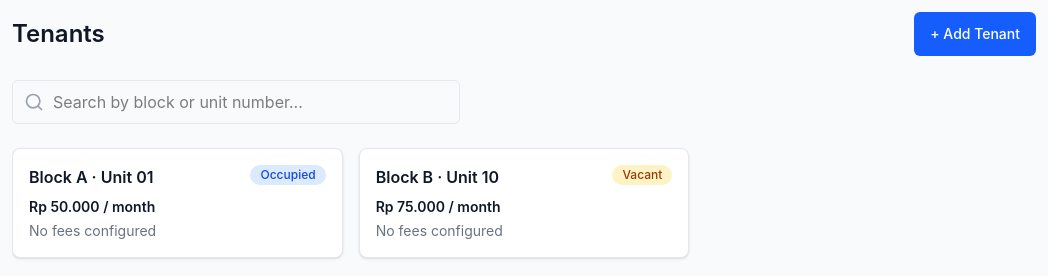
Test: TenantListPage › search filters by block name
The width and height of the screenshot is (1048, 276).
Type "A" into the search field with placeholder "Search by block or unit number..." at (236, 102), box [12, 80, 460, 124]
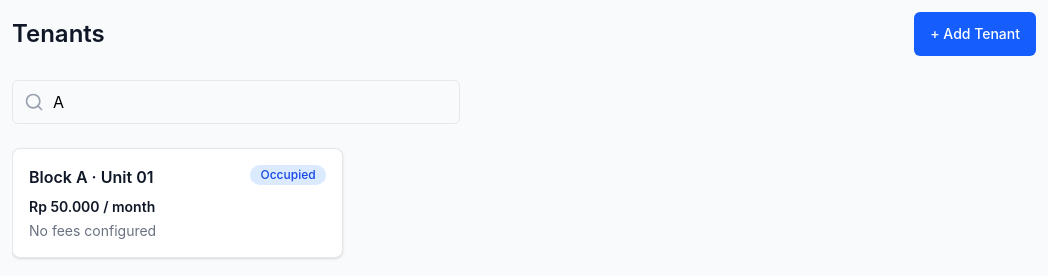
Expected: the text "Block A · Unit 01" is shown, [29, 165, 154, 189]
Now the button "Block B" is gone
